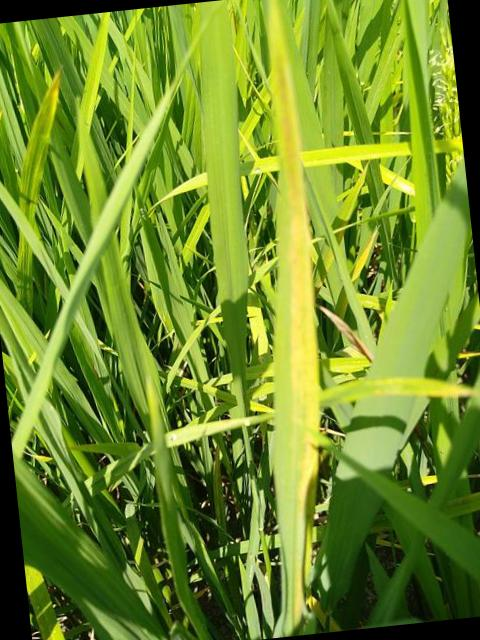Leaf Streak: (265, 0, 323, 636), (22, 70, 60, 197)
